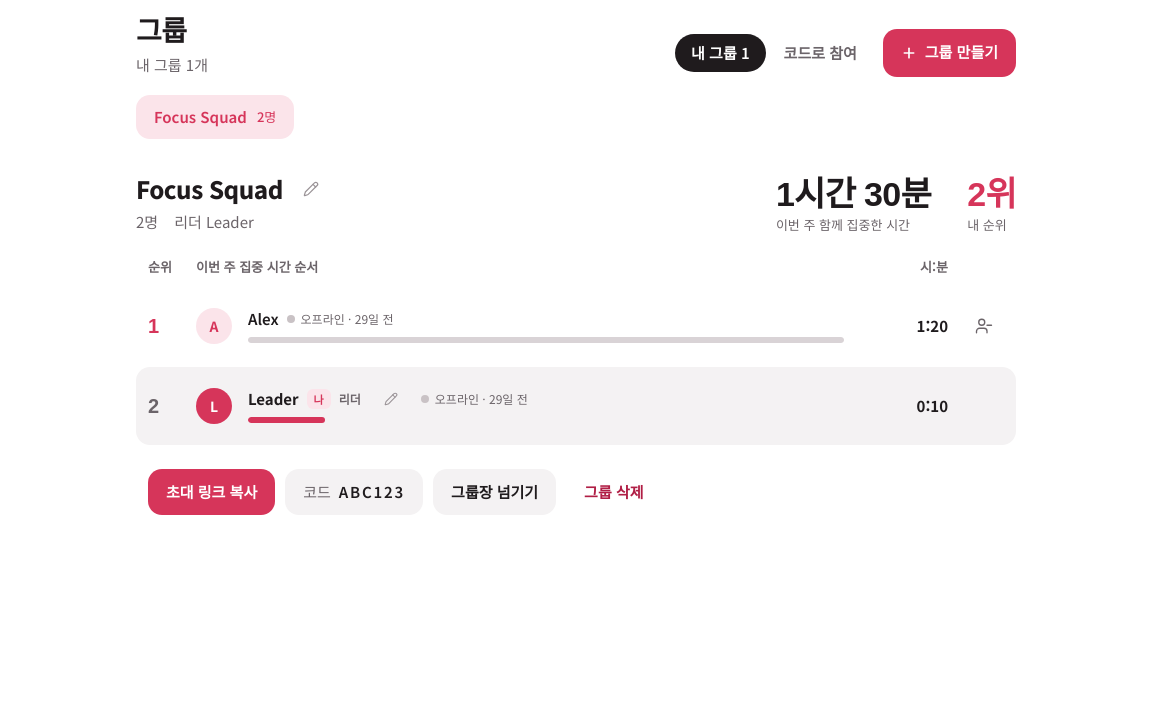
GroupDetailPage (/groups/[id]) › 삭제 확인에서 취소하면 RPC를 부르지 않는다
Click the button "그룹 삭제".
click(614, 492)  # box 566,468 -> 662,514
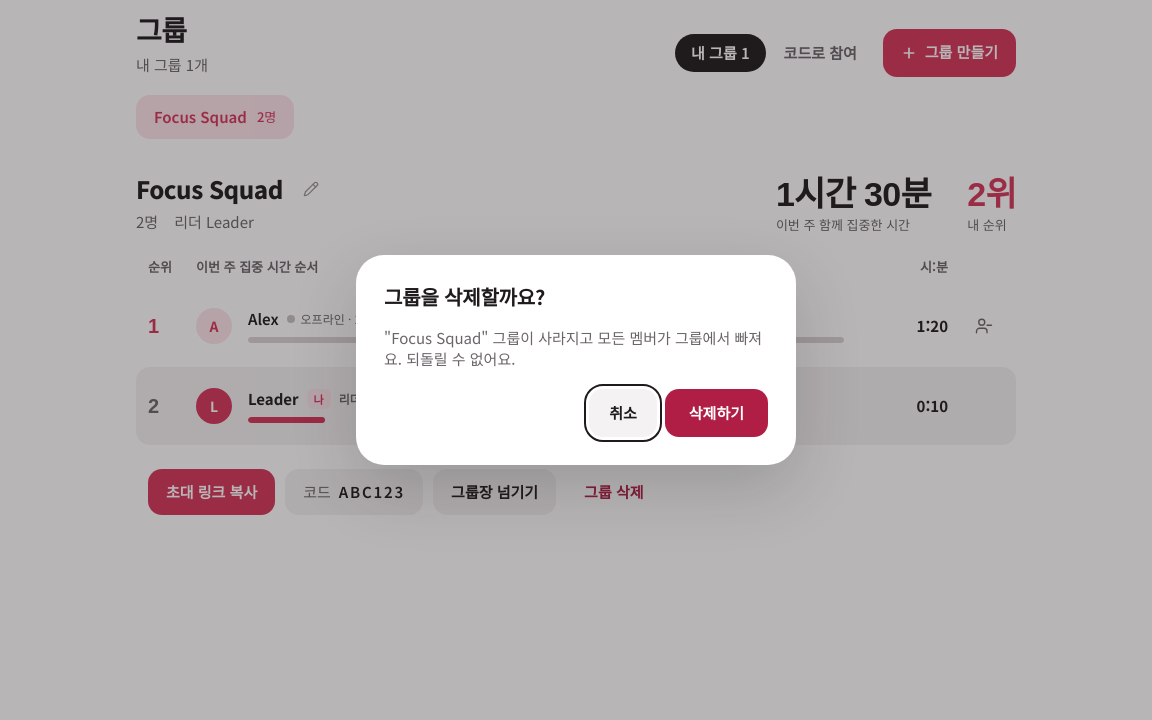
Click the button "취소".
click(623, 413)  # box 589,389 -> 657,437
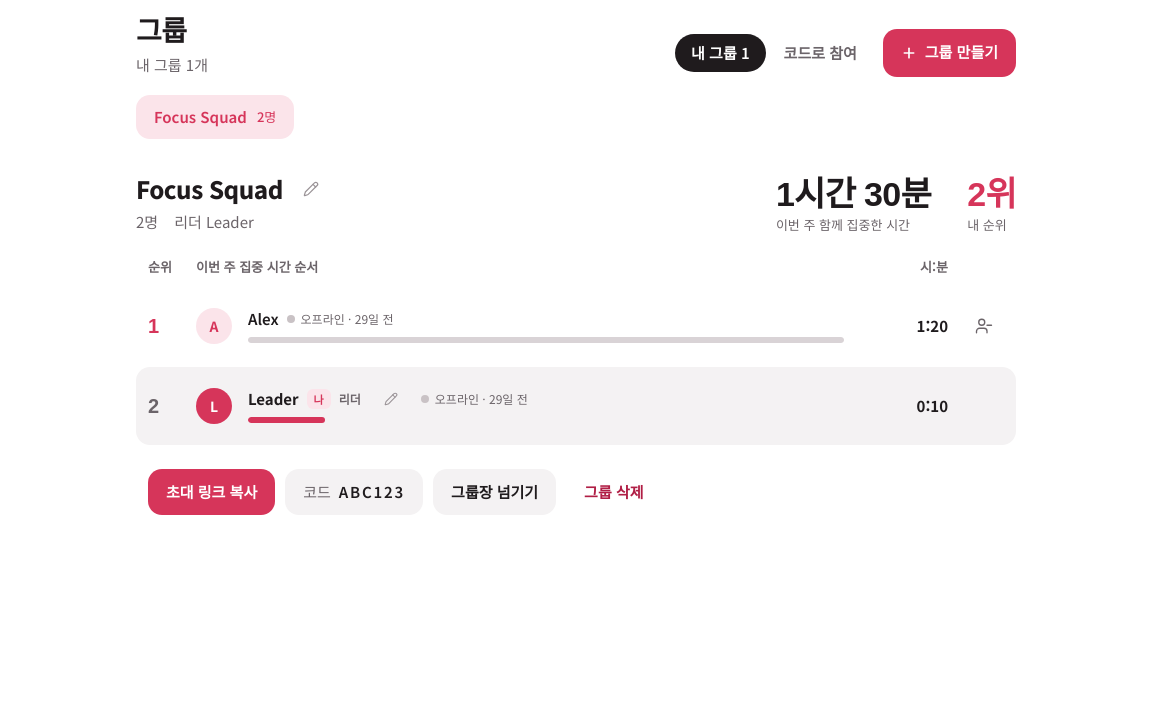
Expected: the dialog is gone
